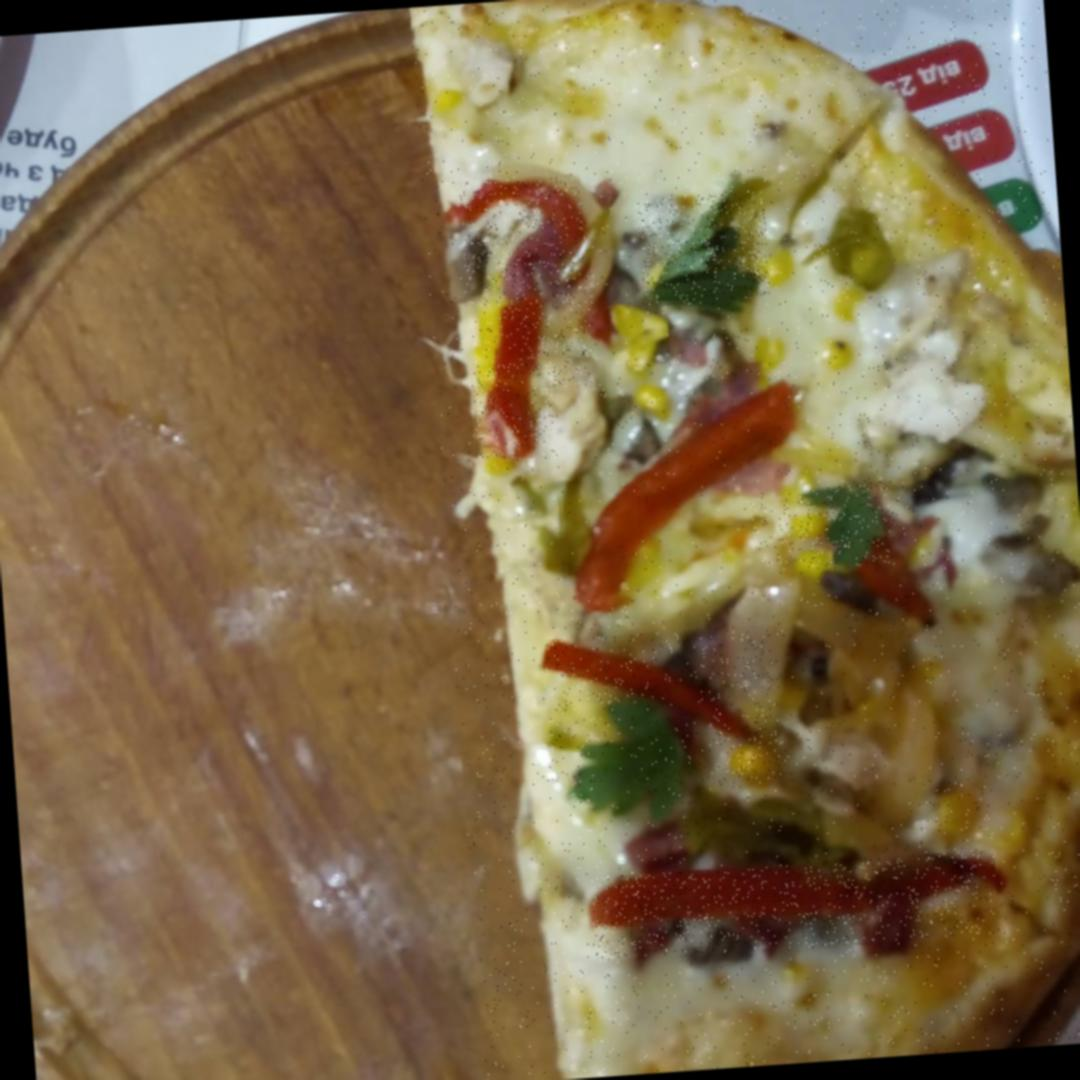Basil: (638, 191, 771, 306), (566, 698, 699, 810), (805, 476, 898, 570)
Corn: (598, 305, 675, 427), (752, 494, 834, 566), (930, 786, 997, 853), (716, 726, 786, 785), (467, 290, 504, 367)
Peppers: (554, 375, 782, 596), (592, 850, 1000, 962), (459, 174, 600, 465), (544, 624, 786, 762)
Pizza: (410, 0, 1080, 1080)
